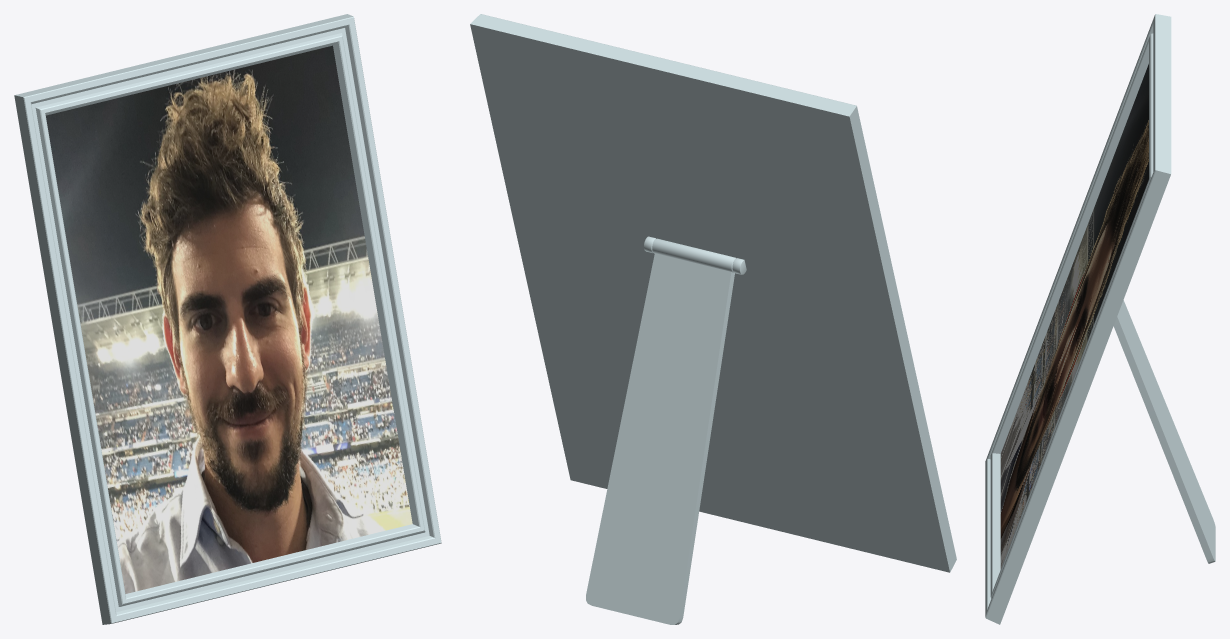
Rendered from aws_DeskPortraitA_01_visual.DAE.
The picture shows the model from 3 angles, left to right: view 1: azimuth 30°, elevation 25°; view 2: azimuth 150°, elevation 25°; view 3: azimuth 270°, elevation 25°; orthographic projection. The views are drawn at different scales.
Parts seen in each view (by area): view 1: aws_DeskPortraitA_01_visual; view 2: aws_DeskPortraitA_01_visual; view 3: aws_DeskPortraitA_01_visual.
Boxes of the visible parts, <box> form: aws_DeskPortraitA_01_visual: <box>14,14,441,624</box>; aws_DeskPortraitA_01_visual: <box>470,14,956,624</box>; aws_DeskPortraitA_01_visual: <box>985,14,1215,624</box>.
Bounding box in the file's own units: 16.8 × 10.38 × 22.58.
Materials: 2 (2 with a texture image).
